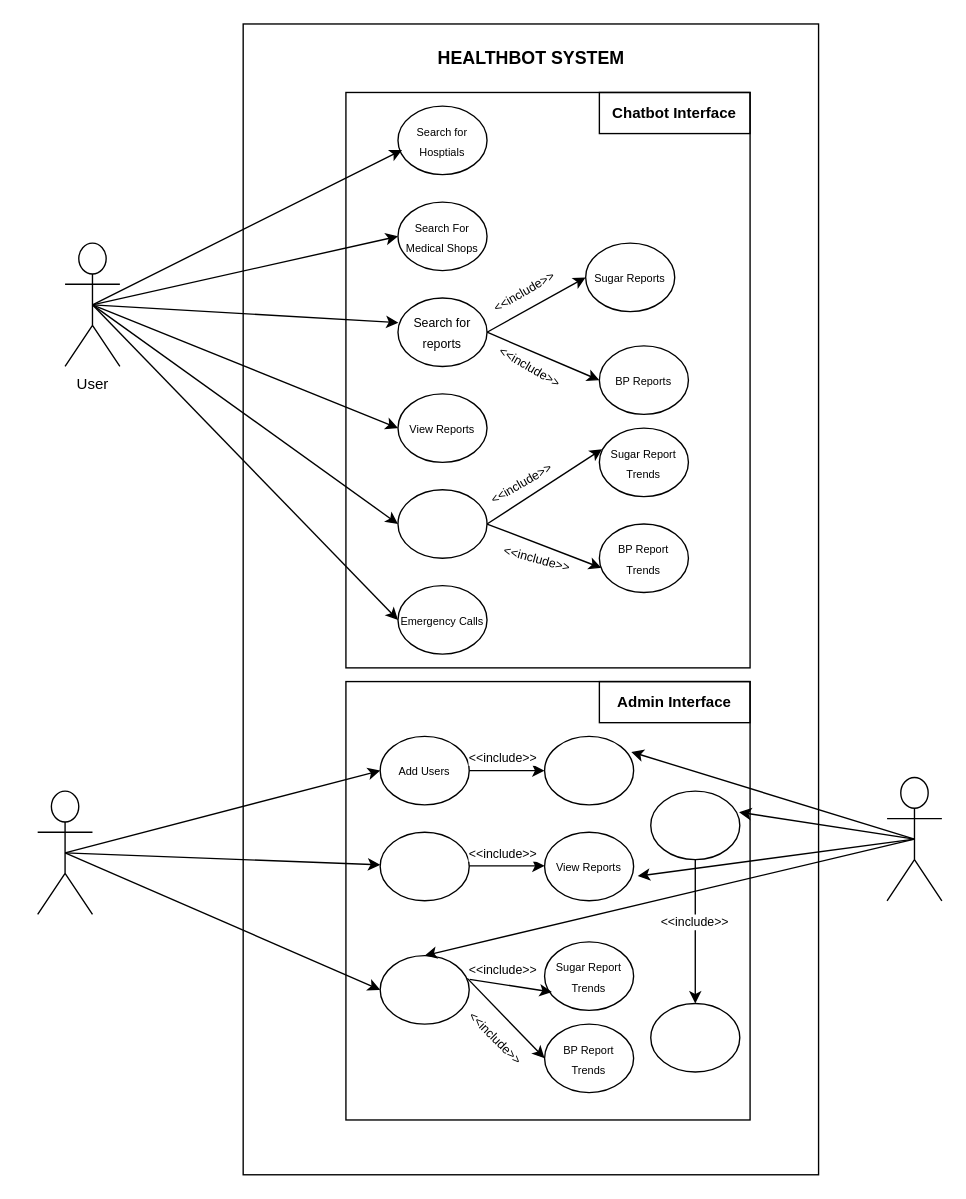
This 966x1199 diagram has some shape labels left out. The shapes that lost their labels are listed below. From the top down, each one's centre as x and y in pixels, then its label:
At pixel 442 523: "View trends".
At pixel 588 770: "View Users".
At pixel 694 825: "Add Clinic (Clinic Admins)".
At pixel 914 838: "Admin".
At pixel 64 852: "Clinic Admin".
At pixel 424 866: "Add Reports".
At pixel 424 989: "View Trend Reports".
At pixel 694 1037: "View Clinic".
